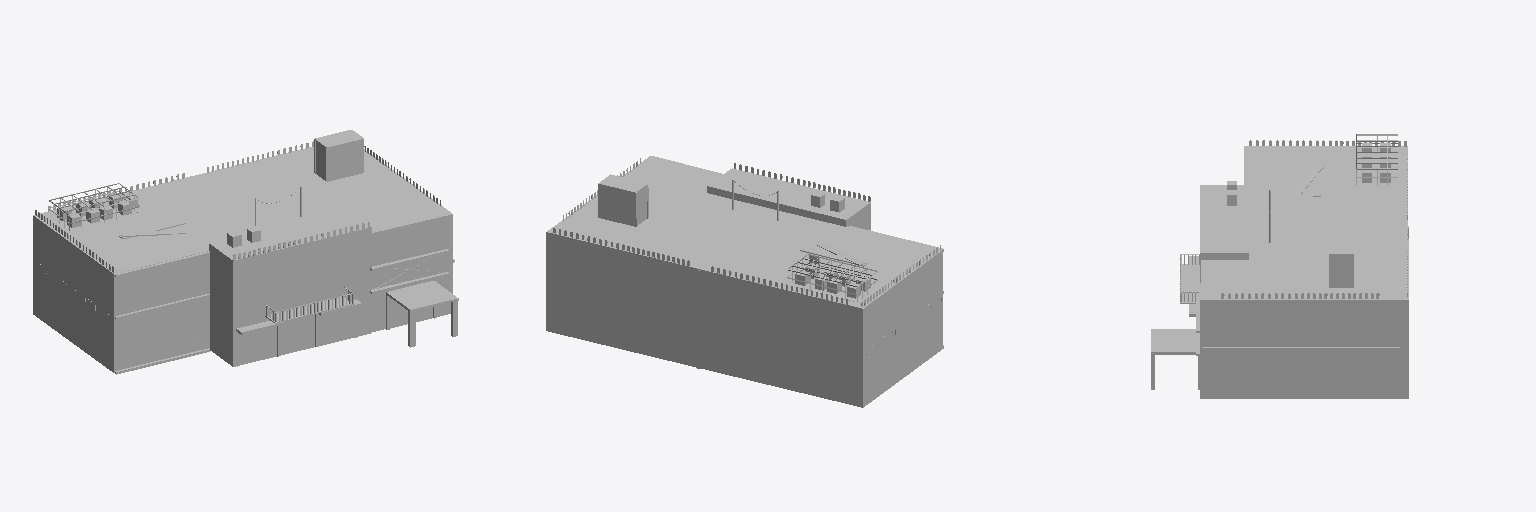
The model's file is OLDhouse.obj.
3 renders of one model, left to right at view 1: azimuth 30°, elevation 25°; view 2: azimuth 150°, elevation 25°; view 3: azimuth 270°, elevation 25°, orthographic.
Visible parts, largest first — view 1: Line02; view 2: Line02; view 3: Line02.
Boxes of the visible parts, box(x1,y1,x2,y2) form: Line02: box(33, 130, 458, 374); Line02: box(546, 156, 943, 407); Line02: box(1151, 134, 1408, 398).
Size of the model in its own units: 2841 by 1142 by 1988.